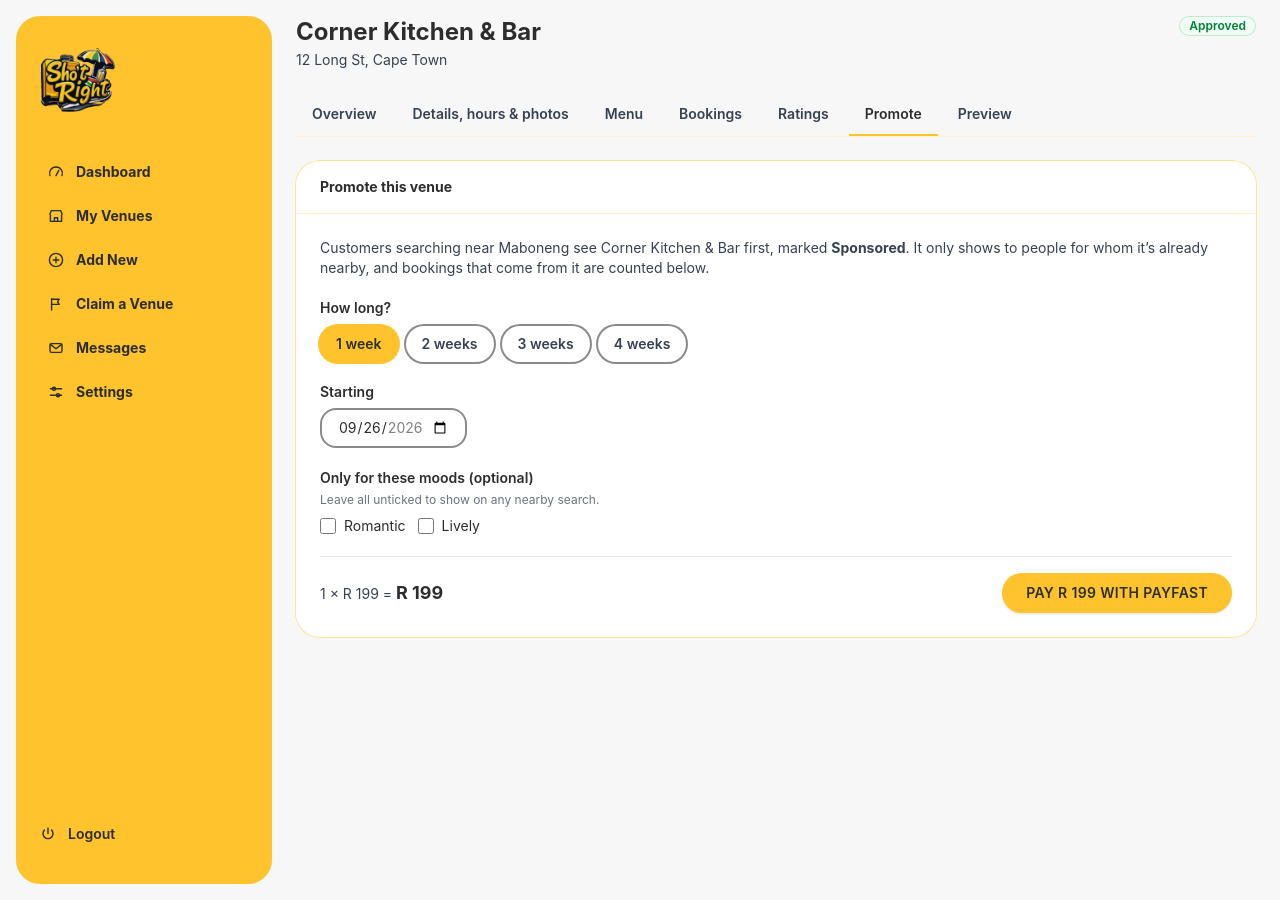
Test: the Promote tab › says what is being bought, and prices the weeks chosen
Expected: the text "marked" shows "sponsored", [831,239,906,256]
Expected: the button "Pay R 199 with Payfast" is shown, [1002,573,1232,613]
Click the radio button labelled "3 weeks" at point(546, 344), box [502,326,590,362]
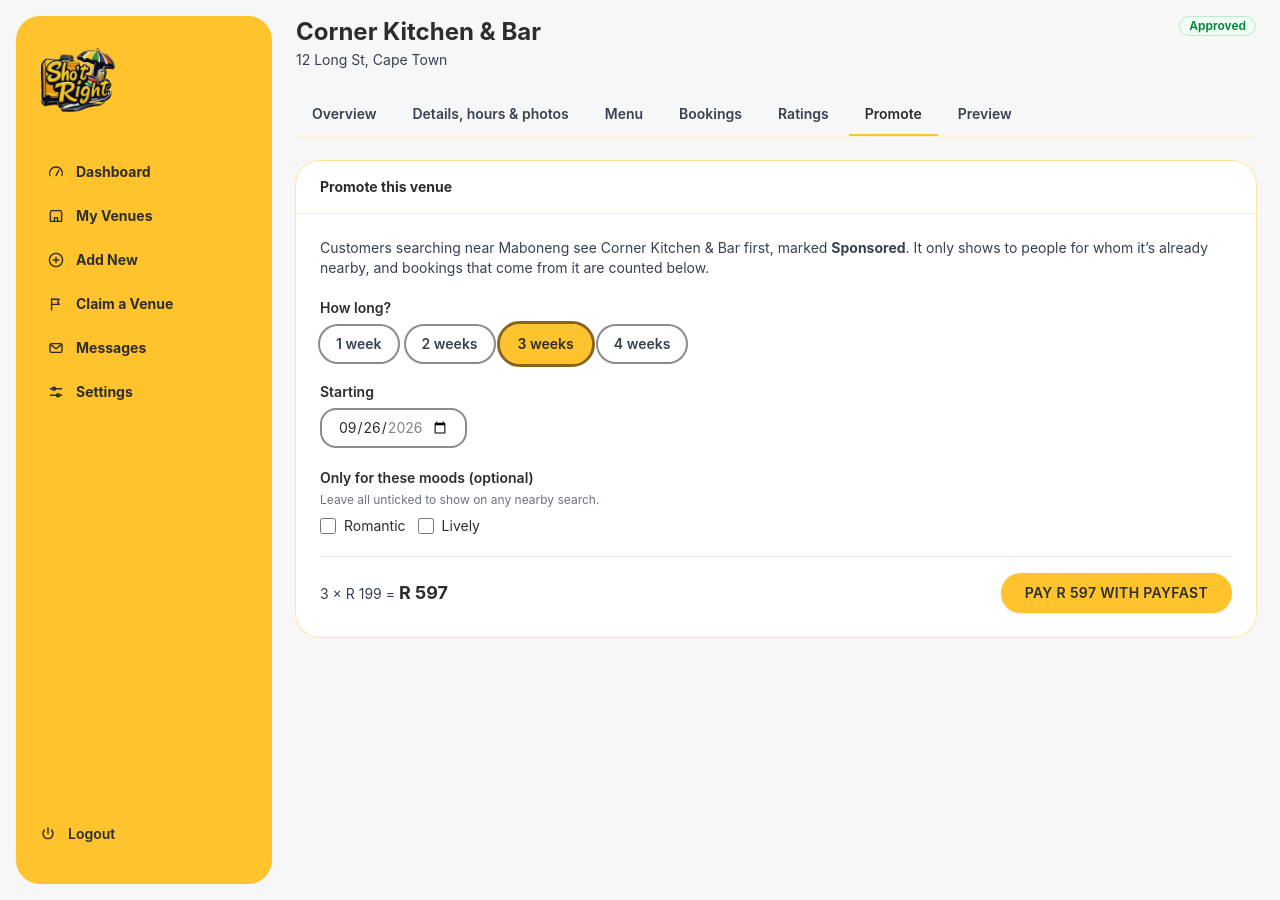
Expected: the button "Pay R 597 with Payfast" is shown, [1001,573,1232,613]
